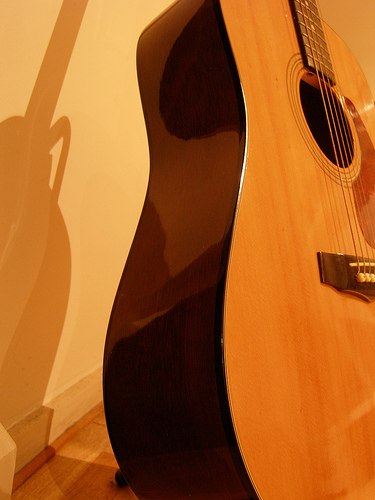guitar: (100, 1, 375, 500)
